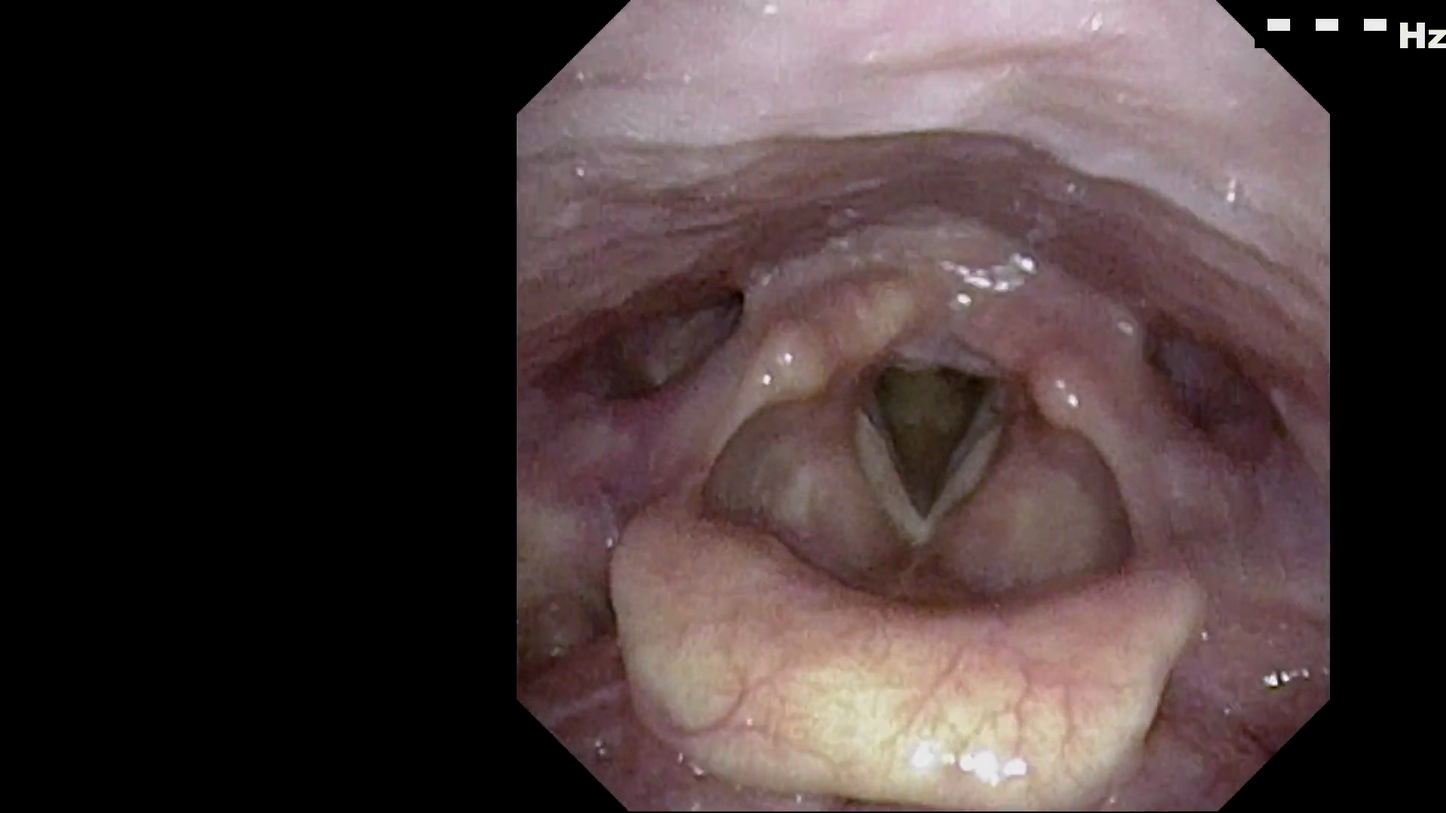epiglottis: (610, 503, 1209, 774)
trachea: (844, 326, 1023, 550)
